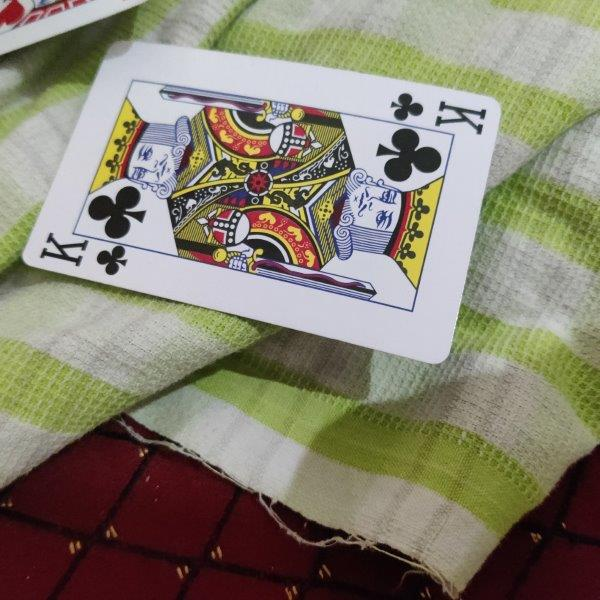King of Clubs: (22, 41, 500, 364)
